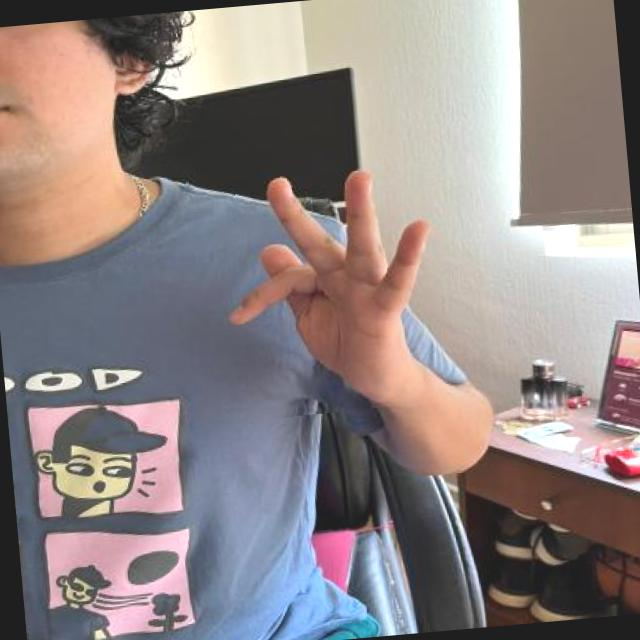F: (211, 154, 450, 423)
